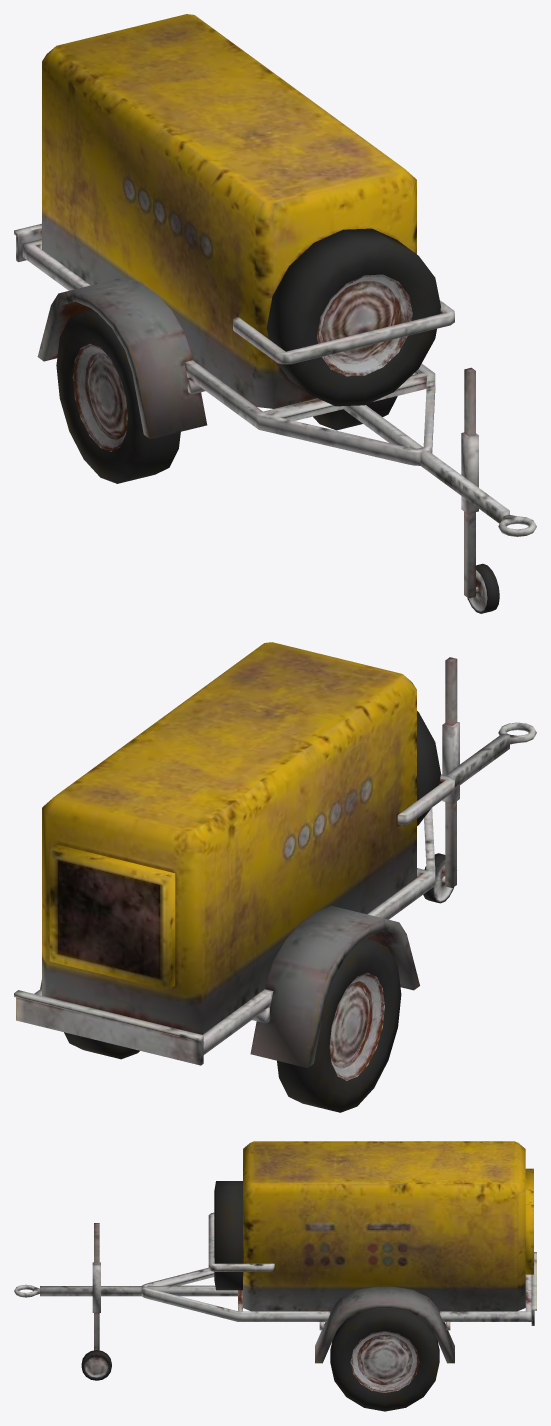
Rendered from generatore.glb.
3 renders of one model, top to bottom at view 1: azimuth 30°, elevation 25°; view 2: azimuth 150°, elevation 25°; view 3: azimuth 270°, elevation 25°, orthographic. The views are drawn at different scales.
Visible parts, largest first — view 1: Torus.003; view 2: Torus.003; view 3: Torus.003.
Part boxes in pixels (x1,y1,x2,y2): Torus.003: [14, 14, 536, 613]; Torus.003: [14, 642, 536, 1112]; Torus.003: [14, 1141, 536, 1411].
Bounding box in the file's own units: 846 × 1011 × 2283.
Materials: 2 (2 with a texture image).
